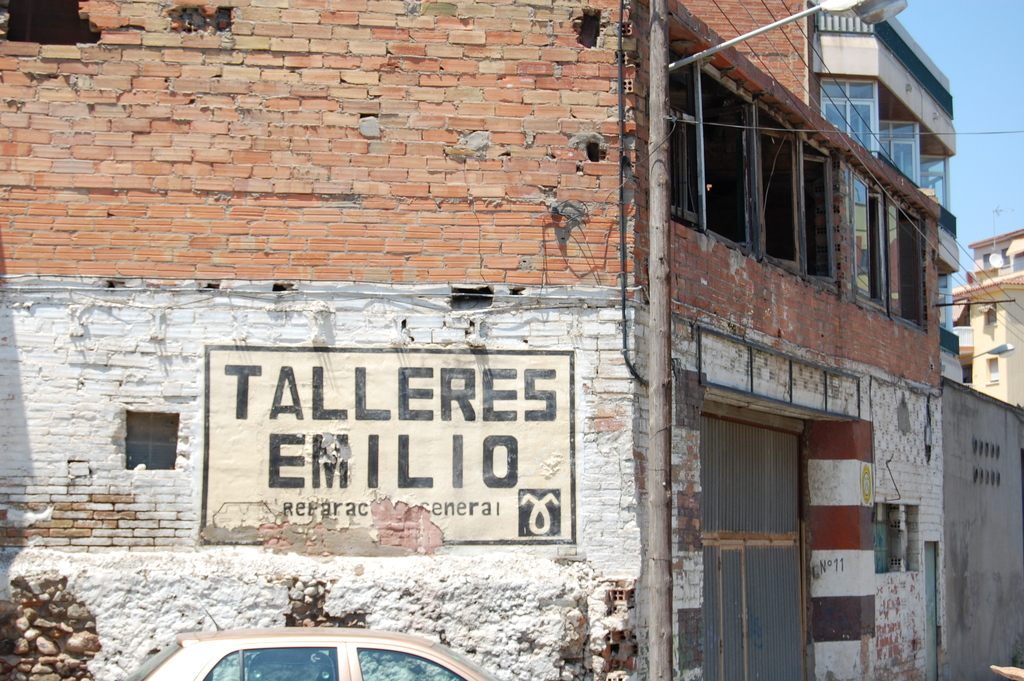Car: (129, 622, 508, 680)
